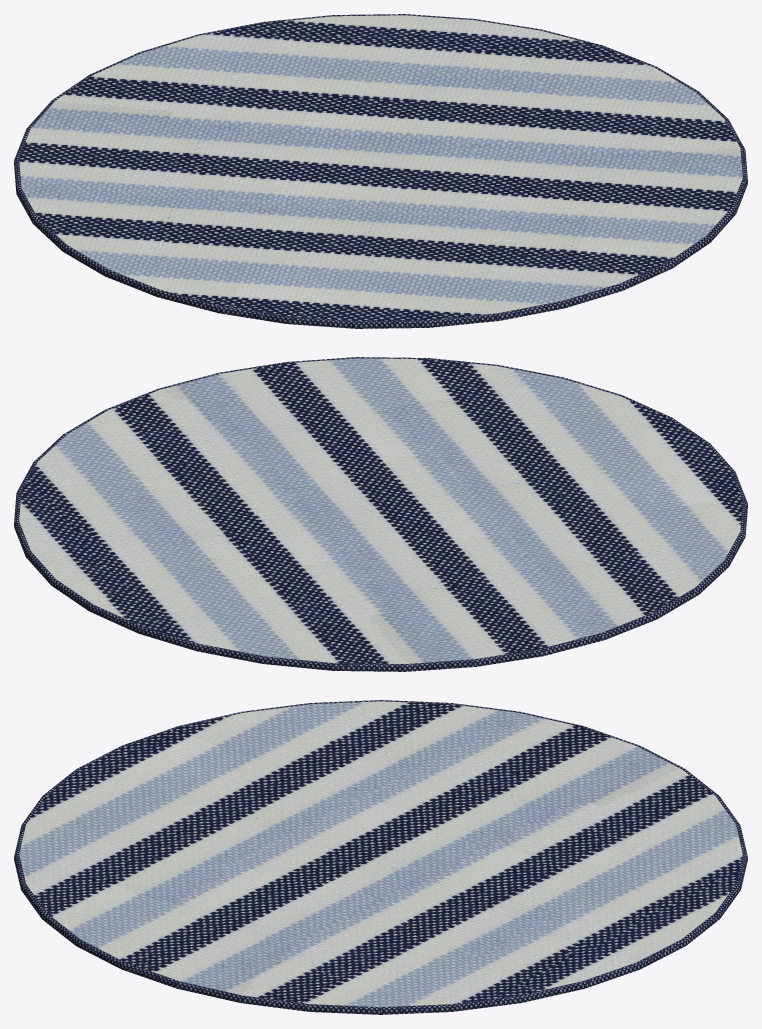
The model's file is rug_circle_small.fbx.
3 renders of one model, top to bottom at view 1: azimuth 30°, elevation 25°; view 2: azimuth 150°, elevation 25°; view 3: azimuth 270°, elevation 25°, orthographic.
Visible parts, largest first — view 1: Cylinder.002; view 2: Cylinder.002; view 3: Cylinder.002.
Part boxes in pixels (<box>): Cylinder.002: <box>14,14,747,328</box>; Cylinder.002: <box>14,357,747,671</box>; Cylinder.002: <box>14,700,747,1014</box>.
Bounding box in the file's own units: 207 × 1.74 × 207.
